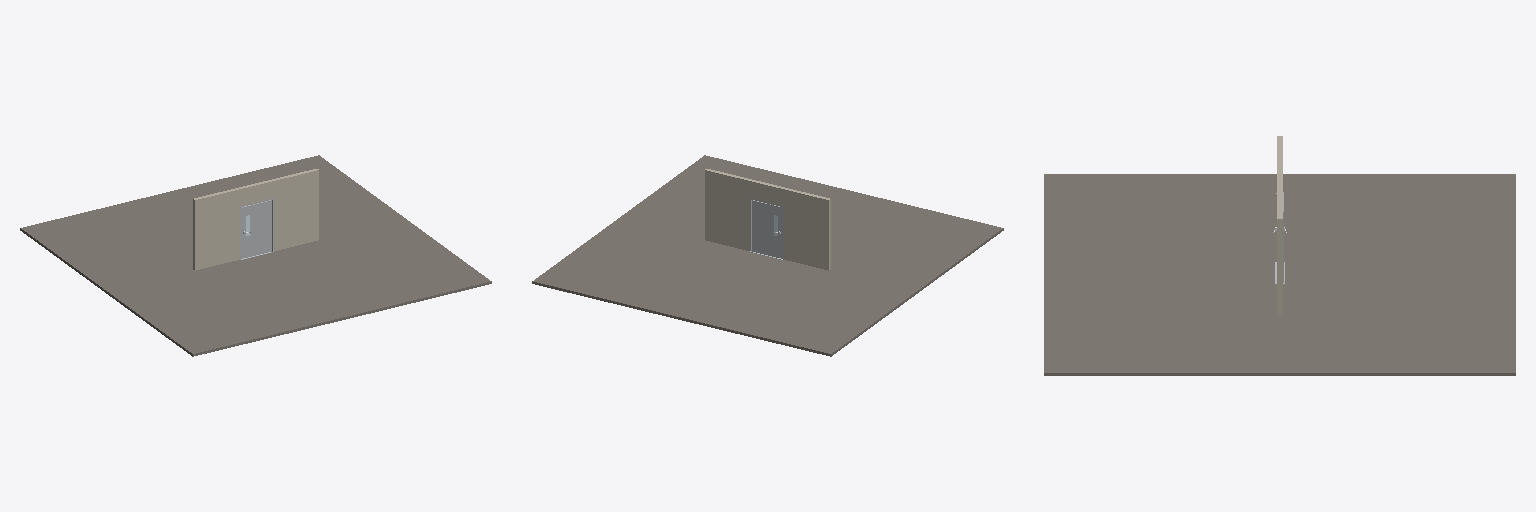
robot.urdf — db0937_cold_storage_minimal:
<?xml version="1.0" ?>
<robot xmlns:doorbench="https://github.com/adamraudonis/DoorBench/schema/urdf-ext" name="db0937_cold_storage_minimal">
  <link name="world_env">
    <visual name="floor_vis">
      <origin xyz="0 0 -0.05" rpy="0 0 0"/>
      <geometry>
        <box size="12 12 0.1"/>
      </geometry>
      <material name="mat_floor"/>
    </visual>
    <collision name="floor_col">
      <origin xyz="0 0 -0.05" rpy="0 0 0"/>
      <geometry>
        <box size="12 12 0.1"/>
      </geometry>
    </collision>
    <visual name="wall_left_vis">
      <origin xyz="-1.5975 0 1.35" rpy="0 0 0"/>
      <geometry>
        <box size="1.805 0.15 2.7"/>
      </geometry>
      <material name="mat_wall"/>
    </visual>
    <collision name="wall_left_col">
      <origin xyz="-1.5975 0 1.35" rpy="0 0 0"/>
      <geometry>
        <box size="1.805 0.15 2.7"/>
      </geometry>
    </collision>
    <visual name="wall_right_vis">
      <origin xyz="1.5825 0 1.35" rpy="0 0 0"/>
      <geometry>
        <box size="1.835 0.15 2.7"/>
      </geometry>
      <material name="mat_wall"/>
    </visual>
    <collision name="wall_right_col">
      <origin xyz="1.5825 0 1.35" rpy="0 0 0"/>
      <geometry>
        <box size="1.835 0.15 2.7"/>
      </geometry>
    </collision>
    <visual name="wall_header_vis">
      <origin xyz="-0.015 0 2.3875" rpy="0 0 0"/>
      <geometry>
        <box size="1.36 0.15 0.625"/>
      </geometry>
      <material name="mat_wall"/>
    </visual>
    <collision name="wall_header_col">
      <origin xyz="-0.015 0 2.3875" rpy="0 0 0"/>
      <geometry>
        <box size="1.36 0.15 0.625"/>
      </geometry>
    </collision>
    <visual name="jamb_hinge_vis">
      <origin xyz="0.6425 0 1" rpy="0 0 0"/>
      <geometry>
        <box size="0.045 0.15 2"/>
      </geometry>
      <material name="mat_frame"/>
    </visual>
    <collision name="jamb_hinge_col">
      <origin xyz="0.6425 0 1" rpy="0 0 0"/>
      <geometry>
        <box size="0.045 0.15 2"/>
      </geometry>
    </collision>
    <visual name="strike_1926_wall_n_vis">
      <origin xyz="-0.6575 0.04125 1.9264" rpy="0 0 0"/>
      <geometry>
        <box size="0.075 0.0675 0.038"/>
      </geometry>
      <material name="mat_frame"/>
    </visual>
    <collision name="strike_1926_wall_n_col">
      <origin xyz="-0.6575 0.04125 1.9264" rpy="0 0 0"/>
      <geometry>
        <box size="0.075 0.0675 0.038"/>
      </geometry>
    </collision>
    <visual name="strike_1926_wall_p_vis">
      <origin xyz="-0.6575 -0.0155 1.9264" rpy="0 0 0"/>
      <geometry>
        <box size="0.075 0.016 0.038"/>
      </geometry>
      <material name="mat_frame"/>
    </visual>
    <collision name="strike_1926_wall_p_col">
      <origin xyz="-0.6575 -0.0155 1.9264" rpy="0 0 0"/>
      <geometry>
        <box size="0.075 0.016 0.038"/>
      </geometry>
    </collision>
    <visual name="strike_1926_ramp_vis">
      <origin xyz="-0.660822 -0.055596 1.9264" rpy="0 0 -0.097591"/>
      <geometry>
        <box size="0.075 0.071842 0.038"/>
      </geometry>
      <material name="mat_frame"/>
    </visual>
    <collision name="strike_1926_ramp_col">
      <origin xyz="-0.660822 -0.055596 1.9264" rpy="0 0 -0.097591"/>
      <geometry>
        <box size="0.075 0.071842 0.038"/>
      </geometry>
    </collision>
    <visual name="strike_1926_ramp_n_vis">
      <origin xyz="-0.660822 0.043596 1.9264" rpy="0 0 0.097591"/>
      <geometry>
        <box size="0.075 0.071842 0.038"/>
      </geometry>
      <material name="mat_frame"/>
    </visual>
    <collision name="strike_1926_ramp_n_col">
      <origin xyz="-0.660822 0.043596 1.9264" rpy="0 0 0.097591"/>
      <geometry>
        <box size="0.075 0.071842 0.038"/>
      </geometry>
    </collision>
    <visual name="strike_1926_back_vis">
      <origin xyz="-0.6625 0 1.9264" rpy="0 0 0"/>
      <geometry>
        <box size="0.065 0.015 0.038"/>
      </geometry>
      <material name="mat_frame"/>
    </visual>
    <collision name="strike_1926_back_col">
      <origin xyz="-0.6625 0 1.9264" rpy="0 0 0"/>
      <geometry>
        <box size="0.065 0.015 0.038"/>
      </geometry>
    </collision>
    <visual name="jamb_strike_0_vis">
      <origin xyz="-0.6575 0 0.9537" rpy="0 0 0"/>
      <geometry>
        <box size="0.075 0.15 1.9074"/>
      </geometry>
      <material name="mat_frame"/>
    </visual>
    <collision name="jamb_strike_0_col">
      <origin xyz="-0.6575 0 0.9537" rpy="0 0 0"/>
      <geometry>
        <box size="0.075 0.15 1.9074"/>
      </geometry>
    </collision>
    <visual name="jamb_strike_1_vis">
      <origin xyz="-0.6575 0 1.9727" rpy="0 0 0"/>
      <geometry>
        <box size="0.075 0.15 0.0546"/>
      </geometry>
      <material name="mat_frame"/>
    </visual>
    <collision name="jamb_strike_1_col">
      <origin xyz="-0.6575 0 1.9727" rpy="0 0 0"/>
      <geometry>
        <box size="0.075 0.15 0.0546"/>
      </geometry>
    </collision>
    <visual name="jamb_head_vis">
      <origin xyz="-0.015 0 2.0225" rpy="0 0 0"/>
      <geometry>
        <box size="1.36 0.15 0.045"/>
      </geometry>
      <material name="mat_frame"/>
    </visual>
    <collision name="jamb_head_col">
      <origin xyz="-0.015 0 2.0225" rpy="0 0 0"/>
      <geometry>
        <box size="1.36 0.15 0.045"/>
      </geometry>
    </collision>
    <visual name="head_stud_vis">
      <origin xyz="-0.015 0 2.06" rpy="0 0 0"/>
      <geometry>
        <box size="1.36 0.15 0.03"/>
      </geometry>
      <material name="mat_wall"/>
    </visual>
    <collision name="head_stud_col">
      <origin xyz="-0.015 0 2.06" rpy="0 0 0"/>
      <geometry>
        <box size="1.36 0.15 0.03"/>
      </geometry>
    </collision>
    <visual name="stop_hinge_vis">
      <origin xyz="0.6145 0.0915 1" rpy="0 0 0"/>
      <geometry>
        <box size="0.011 0.032 2"/>
      </geometry>
      <material name="mat_frame"/>
    </visual>
    <collision name="stop_hinge_col">
      <origin xyz="0.6145 0.0915 1" rpy="0 0 0"/>
      <geometry>
        <box size="0.011 0.032 2"/>
      </geometry>
    </collision>
    <visual name="stop_strike_vis">
      <origin xyz="-0.6145 0.0915 1" rpy="0 0 0"/>
      <geometry>
        <box size="0.011 0.032 2"/>
      </geometry>
      <material name="mat_frame"/>
    </visual>
    <collision name="stop_strike_col">
      <origin xyz="-0.6145 0.0915 1" rpy="0 0 0"/>
      <geometry>
        <box size="0.011 0.032 2"/>
      </geometry>
    </collision>
    <visual name="stop_head_vis">
      <origin xyz="0 0.0915 1.9945" rpy="0 0 0"/>
      <geometry>
        <box size="1.24 0.032 0.011"/>
      </geometry>
      <material name="mat_frame"/>
    </visual>
    <collision name="stop_head_col">
      <origin xyz="0 0.0915 1.9945" rpy="0 0 0"/>
      <geometry>
        <box size="1.24 0.032 0.011"/>
      </geometry>
    </collision>
    <visual name="threshold_vis">
      <origin xyz="0 0 0.004" rpy="0 0 0"/>
      <geometry>
        <box size="1.33 0.25 0.008"/>
      </geometry>
      <material name="mat_threshold"/>
    </visual>
    <collision name="threshold_col">
      <origin xyz="0 0 0.004" rpy="0 0 0"/>
      <geometry>
        <box size="1.33 0.25 0.008"/>
      </geometry>
    </collision>
  </link>
  <link name="leaf_riser">
    <inertial>
      <origin xyz="0 0 0" rpy="0 0 0"/>
      <mass value="0.01"/>
      <inertia ixx="0.000001" ixy="0" ixz="0" iyy="0.000001" iyz="0" izz="0.000001"/>
    </inertial>
  </link>
  <link name="leaf">
    <inertial>
      <origin xyz="-0.610109 0.082 0.994269" rpy="0 0 0"/>
      <mass value="74.111207"/>
      <inertia ixx="23.96641546" ixy="0" ixz="0.00189517" iyy="33.020047778" iyz="0" izz="9.331551088"/>
    </inertial>
    <visual name="leaf_slab_vis">
      <origin xyz="-0.61 0.082 0.9942" rpy="0 0 0"/>
      <geometry>
        <box size="1.22 0.15 1.9644"/>
      </geometry>
      <material name="mat_leaf"/>
    </visual>
    <collision name="leaf_slab_col">
      <origin xyz="-0.61 0.082 0.9942" rpy="0 0 0"/>
      <geometry>
        <box size="1.22 0.15 1.9644"/>
      </geometry>
    </collision>
    <visual name="leaf_glass_0_vis">
      <origin xyz="-0.9808 0.082 1.229928" rpy="0 0 0"/>
      <geometry>
        <box size="0.15 0.1516 0.78576"/>
      </geometry>
      <material name="mat_glass"/>
    </visual>
  </link>
  <link name="leaf_handle">
    <inertial>
      <origin xyz="0.047801 0 0" rpy="0 0 0"/>
      <mass value="2.884841"/>
      <inertia ixx="0.037747558" ixy="0" ixz="0" iyy="0.01820894" iyz="0" izz="0.053988164"/>
    </inertial>
    <visual name="leaf_handle_lever_n_vis">
      <origin xyz="0 -0.075 0" rpy="-1.570796 0 3.141593"/>
      <geometry>
        <mesh filename="../../hardware/lever_40740b93f7.obj"/>
      </geometry>
      <material name="mat_op_chrome"/>
    </visual>
    <collision name="leaf_handle_lever_col_n_col">
      <origin xyz="0.125 -0.13 0" rpy="0 1.570796 0"/>
      <geometry>
        <cylinder radius="0.0095" length="0.231"/>
      </geometry>
    </collision>
    <collision name="leaf_handle_hub_col_n_col">
      <origin xyz="0 -0.105 0" rpy="-1.570796 0 0"/>
      <geometry>
        <cylinder radius="0.012" length="0.044"/>
      </geometry>
    </collision>
    <visual name="leaf_handle_lever_p_vis">
      <origin xyz="0 0.075 0" rpy="1.570796 0 3.141593"/>
      <geometry>
        <mesh filename="../../hardware/lever_40740b93f7.obj"/>
      </geometry>
      <material name="mat_op_chrome"/>
    </visual>
    <collision name="leaf_handle_lever_col_p_col">
      <origin xyz="0.125 0.13 0" rpy="0 1.570796 0"/>
      <geometry>
        <cylinder radius="0.0095" length="0.231"/>
      </geometry>
    </collision>
    <collision name="leaf_handle_hub_col_p_col">
      <origin xyz="0 0.105 0" rpy="-1.570796 0 0"/>
      <geometry>
        <cylinder radius="0.012" length="0.044"/>
      </geometry>
    </collision>
  </link>
  <joint name="leaf_rise" type="prismatic">
    <origin xyz="0.62 0 0" rpy="0 0 0"/>
    <parent link="world_env"/>
    <child link="leaf_riser"/>
    <axis xyz="0 0 1"/>
    <limit lower="0" upper="0.0264" effort="5000" velocity="10"/>
    <dynamics damping="1" friction="0"/>
    <mimic joint="leaf_hinge" multiplier="0.007639" offset="0"/>
  </joint>
  <joint name="leaf_hinge" type="revolute">
    <origin xyz="-0.003 -0.082 0" rpy="0 0 0"/>
    <parent link="leaf_riser"/>
    <child link="leaf"/>
    <axis xyz="0 0 1"/>
    <limit lower="0" upper="1.745329" effort="2000" velocity="10"/>
    <dynamics damping="12.792177" friction="4.677607"/>
    <doorbench:spring stiffness="21.358593" springref="-1.732324" note="tau = -stiffness*(q - springref); not native URDF"/>
    <doorbench:closer damping_closing="90" damping_opening="12" backcheck_angle="1.22" backcheck_damping="60"/>
    <doorbench:note text="rising hinge: gravity closing torque ~ m*g*0.0076 N*m/rad"/>
  </joint>
  <joint name="leaf_handle_hinge" type="revolute">
    <origin xyz="-1.155 0.082 1" rpy="0 0 0"/>
    <parent link="leaf"/>
    <child link="leaf_handle"/>
    <axis xyz="0 1 0"/>
    <limit lower="0" upper="0.5" effort="2000" velocity="10"/>
    <dynamics damping="0.58994" friction="0.07"/>
    <doorbench:spring stiffness="2.5" springref="-0.96" note="tau = -stiffness*(q - springref); not native URDF"/>
  </joint>
  <material name="mat_floor">
    <color rgba="0.55 0.53 0.5 1"/>
  </material>
  <material name="mat_frame">
    <color rgba="0.75 0.76 0.77 1"/>
  </material>
  <material name="mat_glass">
    <color rgba="0.85 0.92 0.95 0.25"/>
  </material>
  <material name="mat_leaf">
    <color rgba="0.75 0.76 0.77 1"/>
  </material>
  <material name="mat_op_chrome">
    <color rgba="0.9 0.9 0.92 1"/>
  </material>
  <material name="mat_threshold">
    <color rgba="0.8 0.81 0.83 1"/>
  </material>
  <material name="mat_wall">
    <color rgba="0.78 0.76 0.7 1"/>
  </material>
</robot>

--- Facts derived from the render (not from the file) ---
The picture shows the robot from 3 angles, left to right: view 1: azimuth 30°, elevation 25°; view 2: azimuth 150°, elevation 25°; view 3: azimuth 270°, elevation 25°; orthographic projection.
Robot: db0937_cold_storage_minimal — 4 links, 3 joints (2 revolute, 1 prismatic); root link world_env; default pose: all joints at 0.
Links seen in each view (by area): view 1: world_env, leaf; view 2: world_env, leaf; view 3: world_env.
Boxes of the visible links, box(x1,y1,x2,y2) form: world_env: box(20, 155, 491, 356); leaf: box(242, 200, 271, 258); world_env: box(532, 155, 1003, 356); leaf: box(752, 201, 781, 258); world_env: box(1044, 136, 1515, 375).
Size in the robot's own frame: 12 by 12 by 2.8 metres.
Meshes: 1 distinct files referenced, 2 mesh visuals loaded (1 OBJ).
